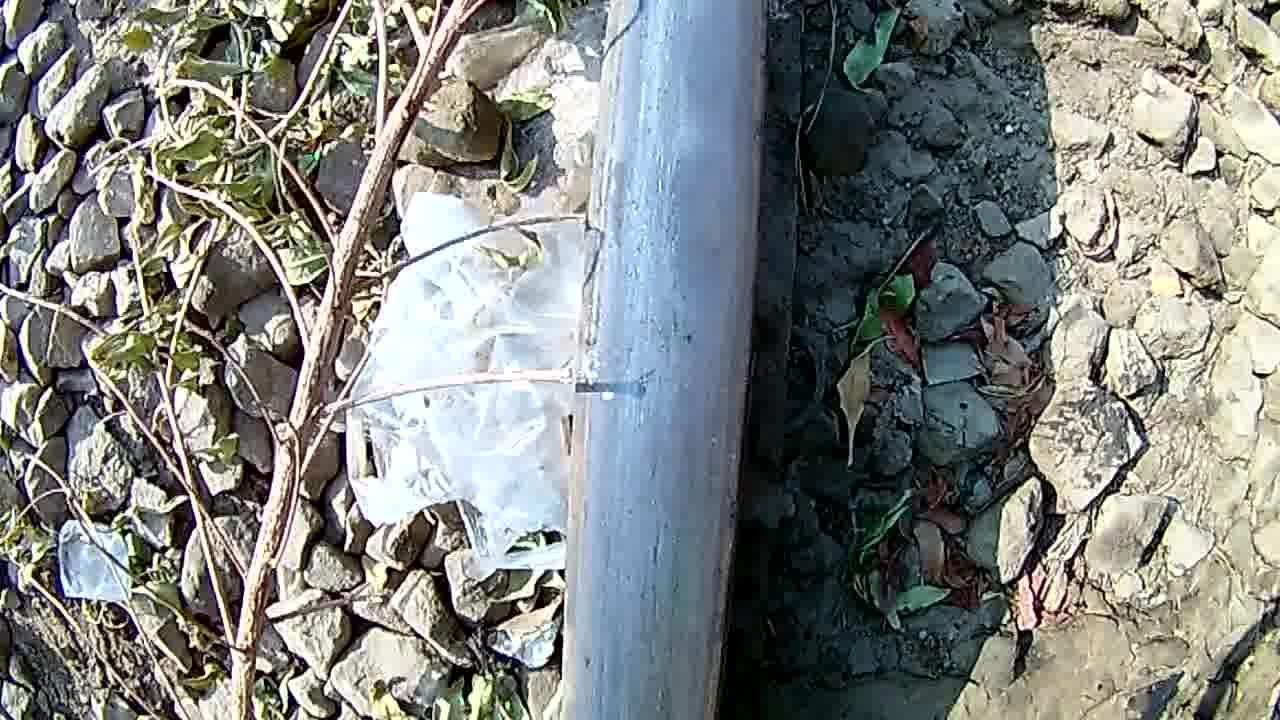bolt_missing: (613, 130, 779, 372)
